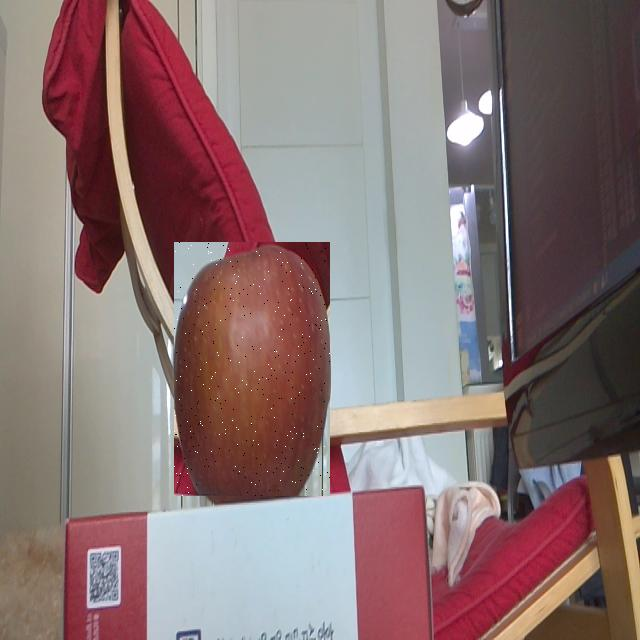apple: (174, 242, 330, 496)
